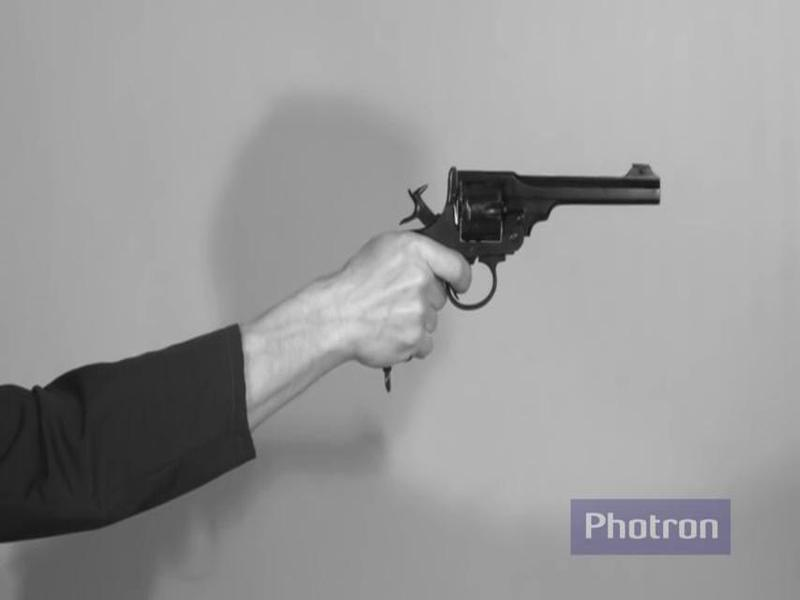Revolver: (364, 144, 670, 407)
